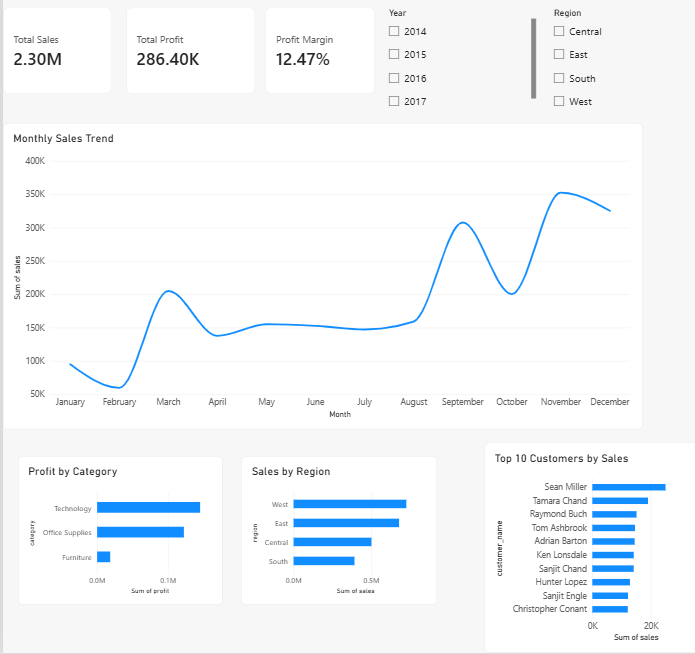

What the dashboard file says about the page in this screenshot:
{"tool":"powerbi","page":{"name":"Page 2","canvas":[1920,1080],"ordinal":0},"visuals":[{"type":"cardVisual","title":"Total Sales","fields":{"Data":["Sum(fact_sales.sales)"]},"box":[0,30.9,176.4,140],"z":0},{"type":"cardVisual","title":"Total Profit","fields":{"Data":["Sum(fact_sales.profit)"]},"box":[200,30.9,210.9,140],"z":1000},{"type":"cardVisual","fields":{"Data":["fact_sales.Profit Margin"]},"box":[427.3,30.9,178.2,140],"z":2000},{"type":"lineChart","title":"Monthly Sales Trend","fields":{"Category":["dim_date.full_date.Variation.Date Hierarchy.Month"],"Y":["Sum(fact_sales.sales)"]},"box":[0,220,1040,498.2],"z":3000},{"type":"slicer","fields":{"Values":["dim_date.order_year"]},"box":[620,30.9,247.3,160],"z":4000},{"type":"slicer","fields":{"Values":["dim_location.region"]},"box":[887.3,30.9,258.2,160],"z":5000},{"type":"clusteredBarChart","title":"Profit by Category","fields":{"Category":["dim_product.category"],"Y":["Sum(fact_sales.profit)"]},"box":[23.6,761.8,332.7,241.8],"z":6000},{"type":"clusteredBarChart","title":"Top 10 Customers by Sales","fields":{"Category":["dim_customer.customer_name"],"Y":["Sum(fact_sales.sales)"]},"box":[781.8,738.2,347.3,341.8],"z":7000},{"type":"clusteredBarChart","title":"Sales by Region","fields":{"Category":["dim_location.region"],"Y":["Sum(fact_sales.sales)"]},"box":[387.3,761.8,318.2,241.8],"z":8000}]}

Visuals, with their boxes on the page's 1920x1080 design canvas (x1, y1, x2, y2). These are canvas units, not pixel positions in the 695x654 screenshot, which may show the page scaled, cropped or inside an application window:
"Total Sales" cardVisual: 0/31/176/171
"Total Profit" cardVisual: 200/31/411/171
cardVisual - fact_sales.Profit Margin: 427/31/606/171
"Monthly Sales Trend" lineChart: 0/220/1040/718
slicer - dim_date.order_year: 620/31/867/191
slicer - dim_location.region: 887/31/1146/191
"Profit by Category" clusteredBarChart: 24/762/356/1004
"Top 10 Customers by Sales" clusteredBarChart: 782/738/1129/1080
"Sales by Region" clusteredBarChart: 387/762/706/1004
